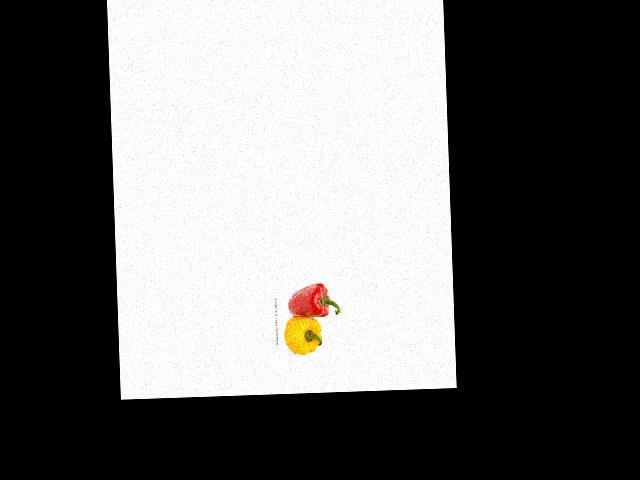bell_pepper: (280, 313, 325, 357)
